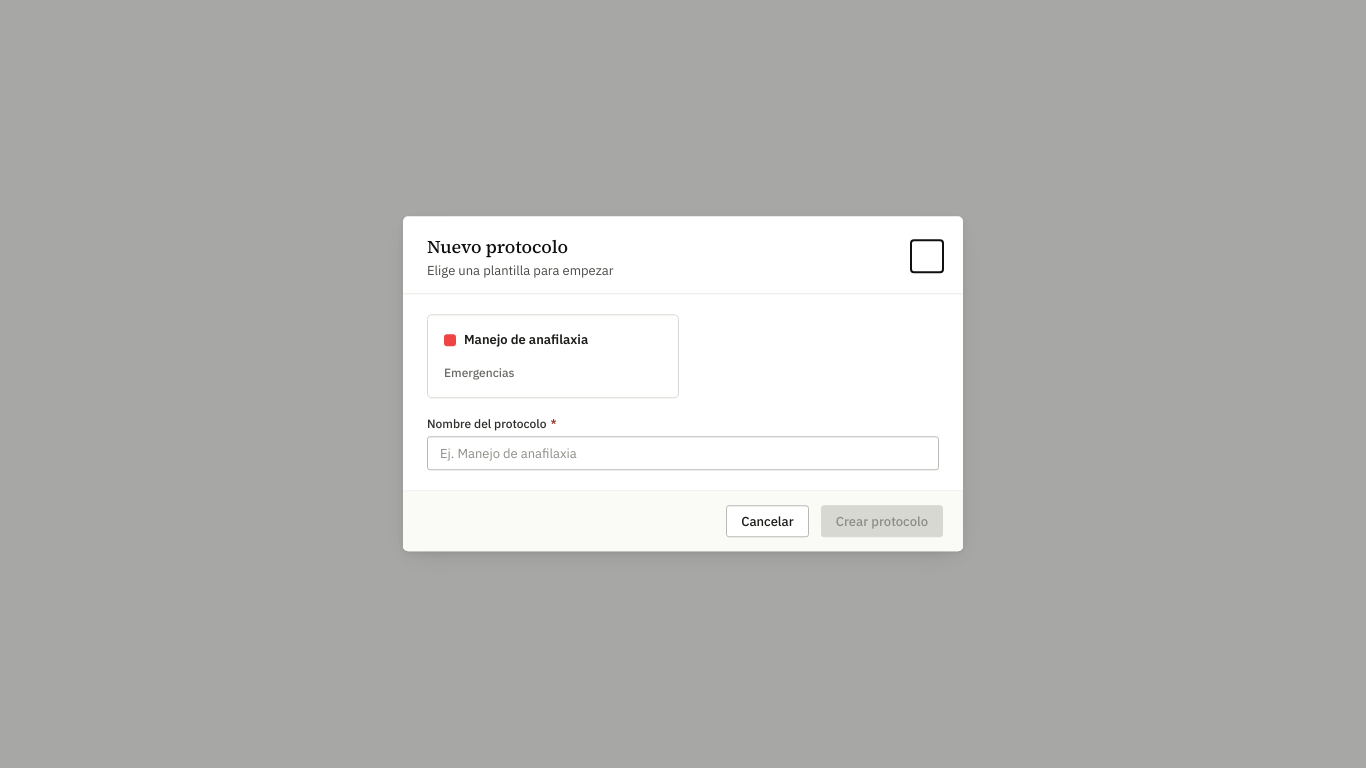
TemplatePickerModal › submit is enabled after selecting a template and typing a valid title
Click the text "Manejo de anafilaxia".
click(526, 340)  # box [464, 331, 588, 349]
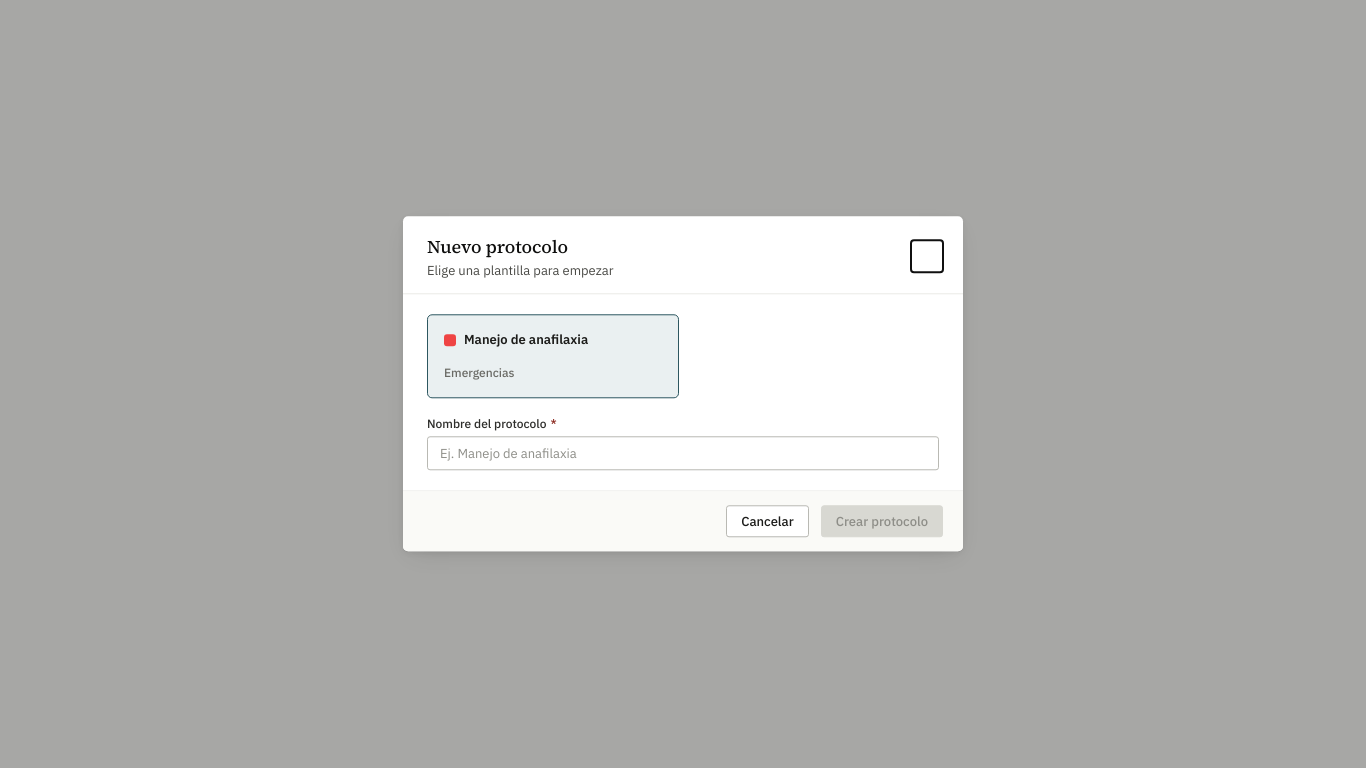
Type "Mi protocolo" into the field with placeholder "Ej. Manejo de anafilaxia".
click(683, 454); type("Mi protocolo")  # box [427, 437, 939, 471]
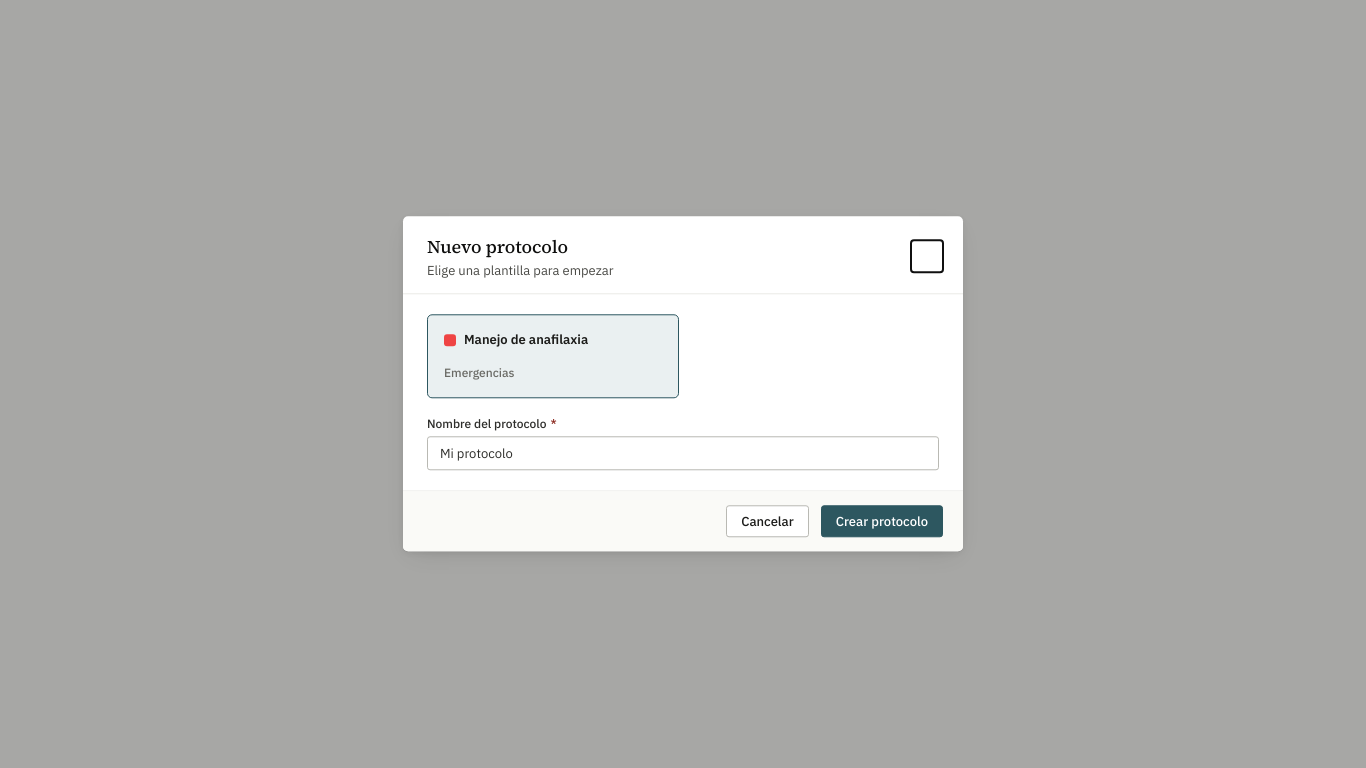
Expected: the button "Crear protocolo" is enabled, [821, 506, 943, 538]
